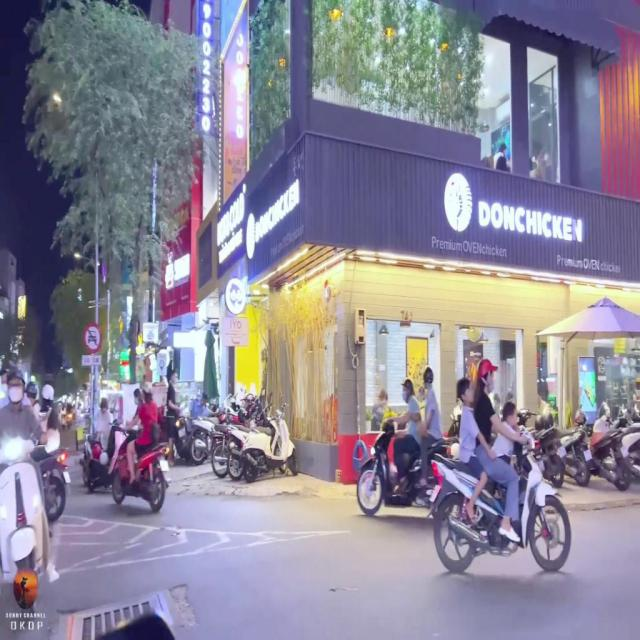cam_o_to: (83, 322, 102, 353)
khac: (82, 356, 102, 368)
